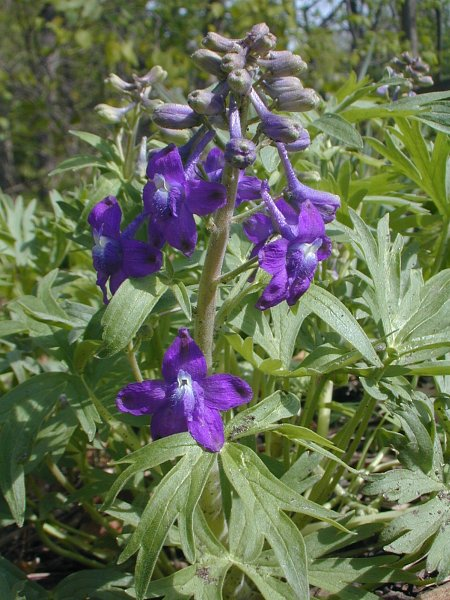violet: (114, 324, 269, 471), (126, 130, 238, 251), (71, 187, 171, 297), (258, 200, 336, 312)
